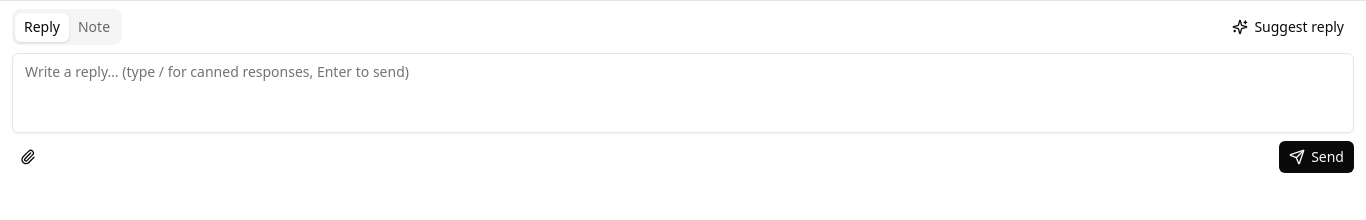
Scenario: Composer › inserts a copilot suggestion with citation chips
Click the button "Suggest reply": (1288, 27) [1222,11,1354,43]
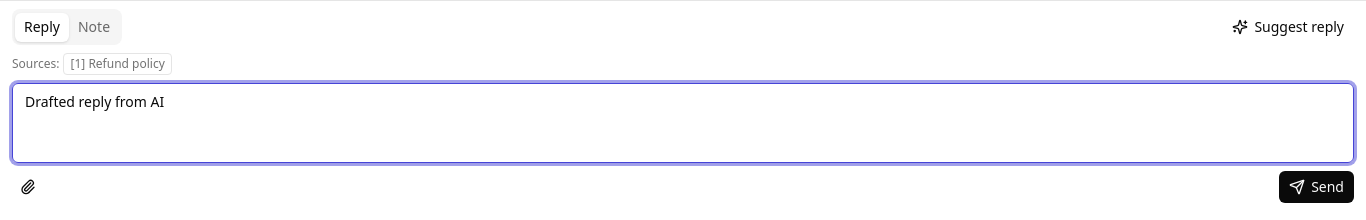
Expected: the text box named "reply" holds "Drafted reply from AI", [12,83,1354,163]
Expected: the text "[1] Refund policy" is shown, [64,53,172,75]
